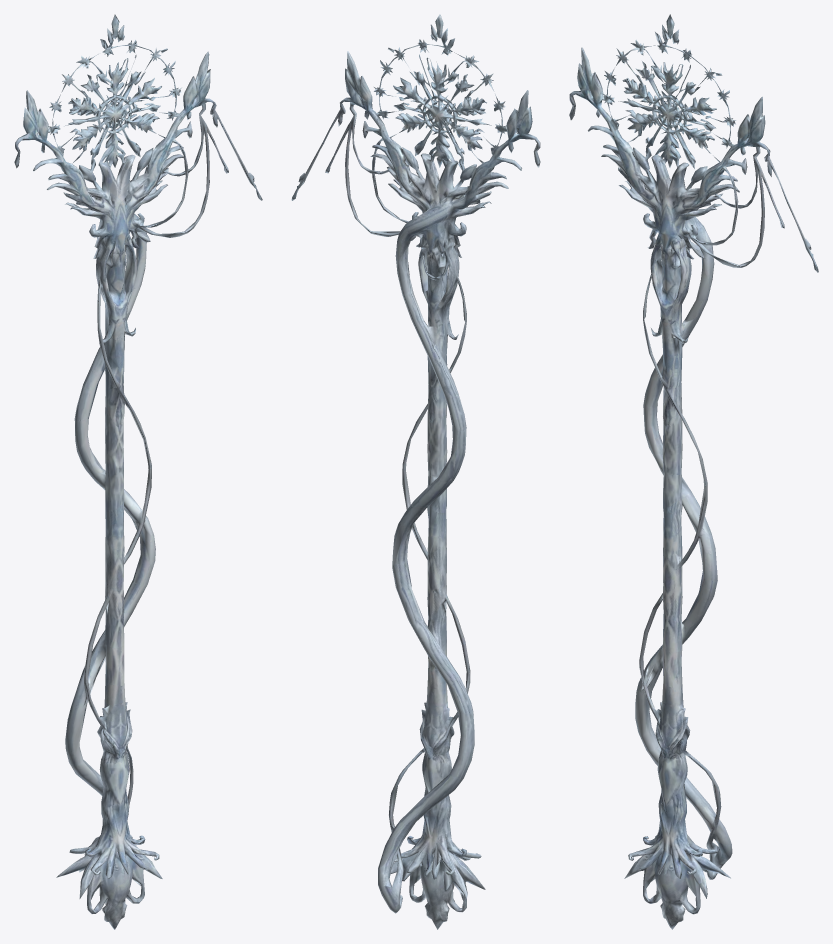
Rendered from frostWand.glb.
3 views of the same model, side by side, from view 1: azimuth 30°, elevation 25°; view 2: azimuth 150°, elevation 25°; view 3: azimuth 330°, elevation 25° (orthographic).
Bounding box in the file's own units: 0.5411 × 1.91 × 0.1822.
Materials: 1 (1 with a texture image).
